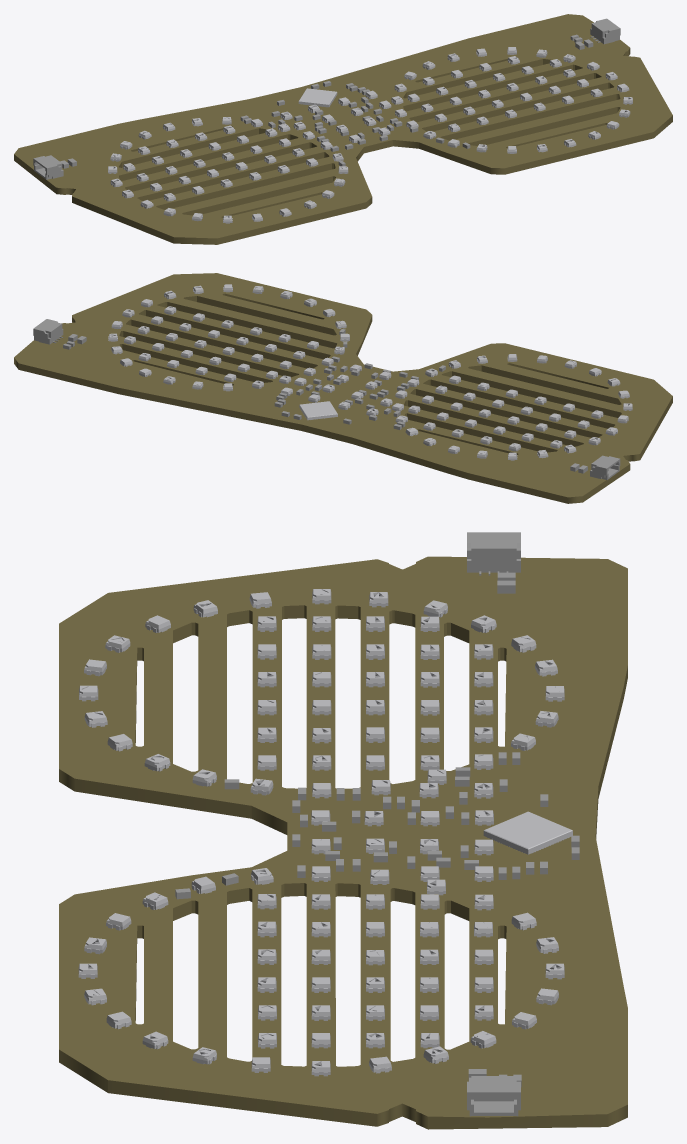
Rendered from ada-5210.glb.
3 renders of one model, top to bottom at view 1: azimuth 30°, elevation 25°; view 2: azimuth 150°, elevation 25°; view 3: azimuth 270°, elevation 25°, orthographic. The views are drawn at different scales.
Parts seen in each view (by area): view 1: 0.16666666666666666_0.16666666666666666_0.08333333333333333_, 0.5833333333333334_0.5833333333333334_0.5833333333333334_0.8, 0.3333333333333333_0.3333333333333333_0.3333333333333333_0; view 2: 0.16666666666666666_0.16666666666666666_0.08333333333333333_, 0.5833333333333334_0.5833333333333334_0.5833333333333334_0.8, 0.3333333333333333_0.3333333333333333_0.3333333333333333_0; view 3: 0.16666666666666666_0.16666666666666666_0.08333333333333333_, 0.5833333333333334_0.5833333333333334_0.5833333333333334_0.8, 0.3333333333333333_0.3333333333333333_0.3333333333333333_0.
Part boxes in pixels (x1,y1,x2,y2): 0.16666666666666666_0.16666666666666666_0.08333333333333333_: (14,14,672,244); 0.5833333333333334_0.5833333333333334_0.5833333333333334_0.8: (108,47,632,223); 0.3333333333333333_0.3333333333333333_0.3333333333333333_0: (33,18,620,179); 0.16666666666666666_0.16666666666666666_0.08333333333333333_: (14,273,672,503); 0.5833333333333334_0.5833333333333334_0.5833333333333334_0.8: (108,284,632,460); 0.3333333333333333_0.3333333333333333_0.3333333333333333_0: (33,319,620,480); 0.16666666666666666_0.16666666666666666_0.08333333333333333_: (59,556,627,1129); 0.5833333333333334_0.5833333333333334_0.5833333333333334_0.8: (78,589,572,1076); 0.3333333333333333_0.3333333333333333_0.3333333333333333_0: (175,532,579,1116).
Size of the model in its own units: 14.67 by 0.4537 by 6.29.
